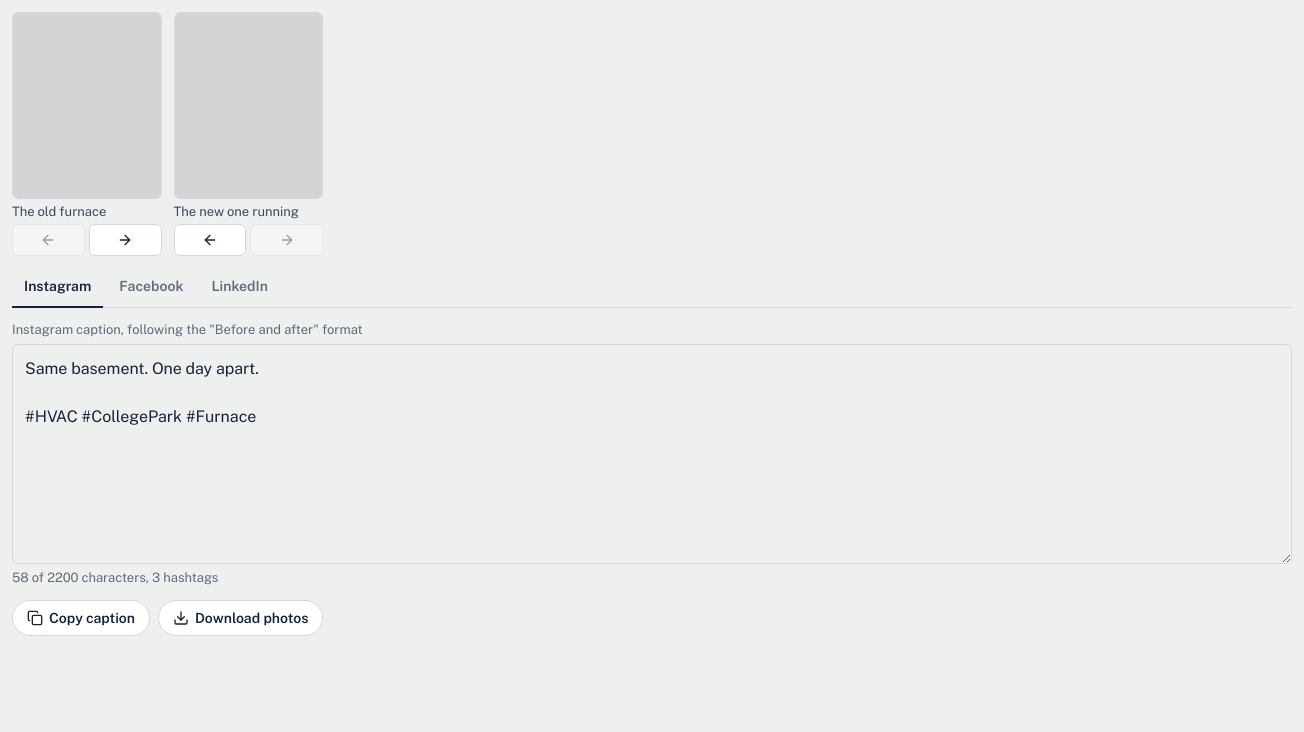
Scenario: PostPreview › reorders the photos
Check: the button named "Move photo 1 earlier" is disabled, box [12,224,85,256]
Click the button named "Move photo 1 later" at (125, 240), box [89,224,162,256]
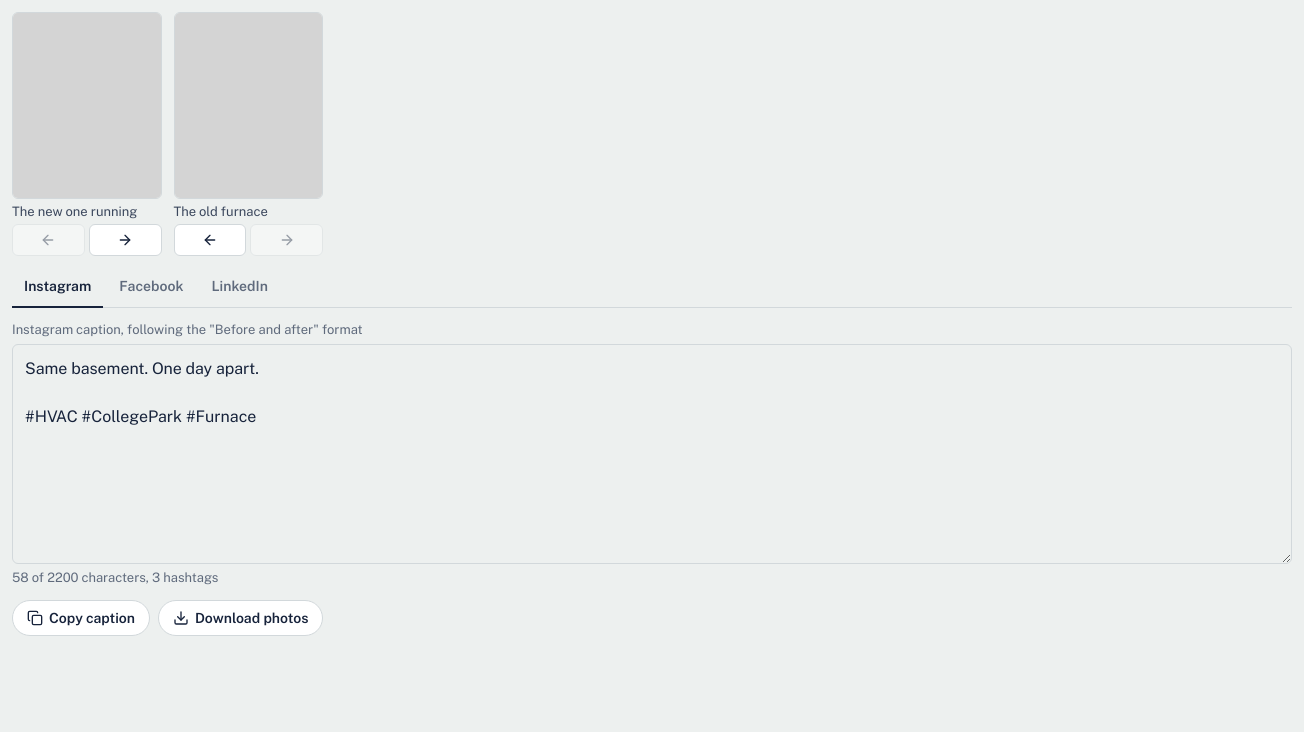
Check: the list named "Photos, in posting order" reads "The new one running The old furnace", box [12,12,323,256]
